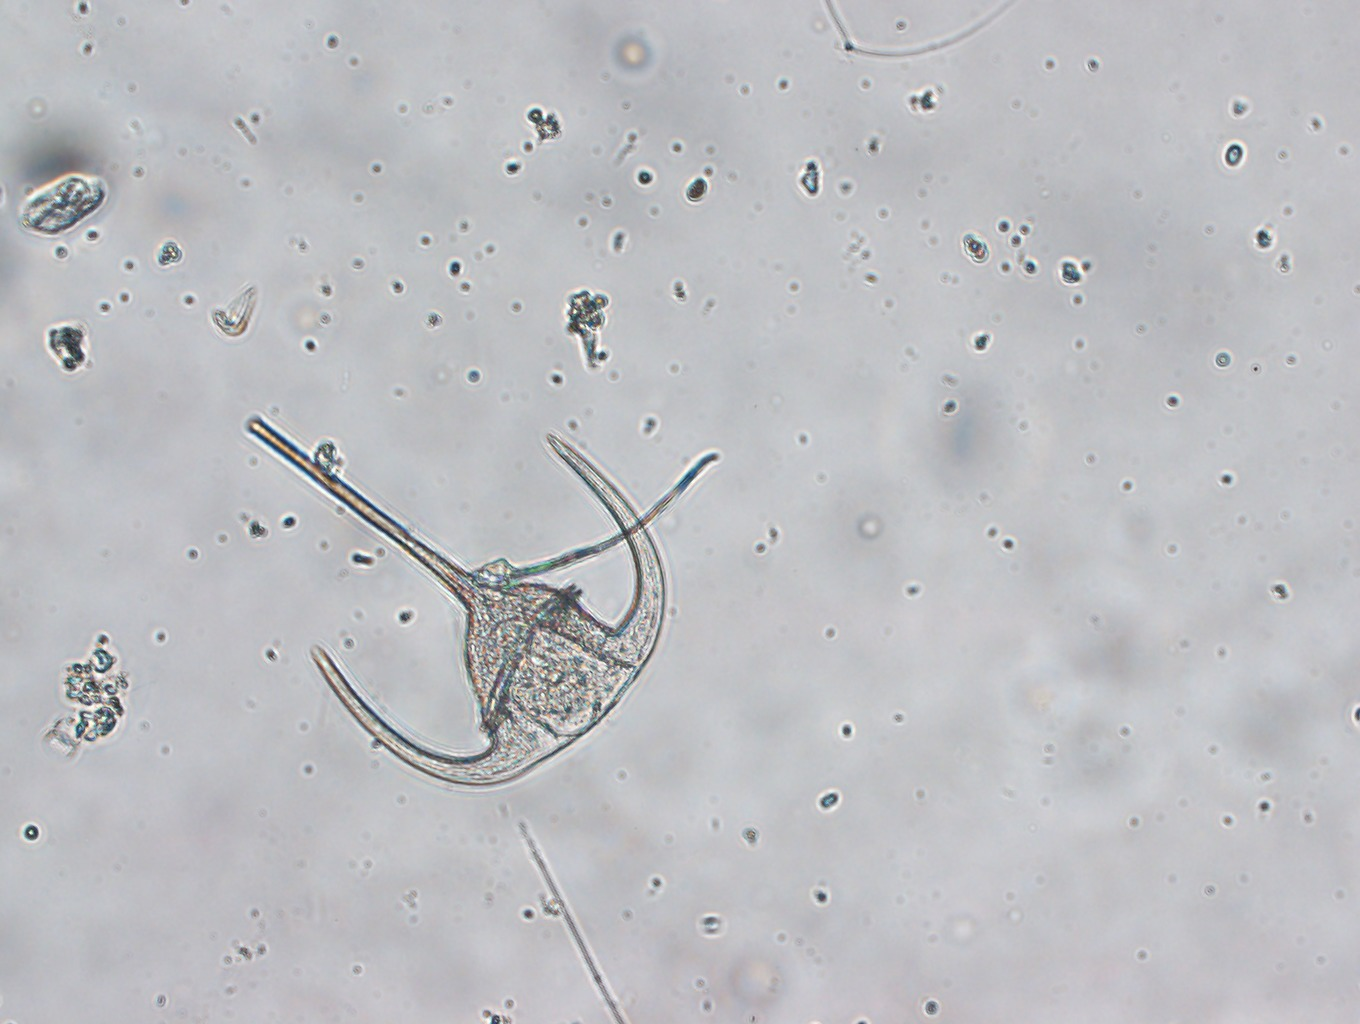ceratium tripos: (238, 411, 668, 790)
